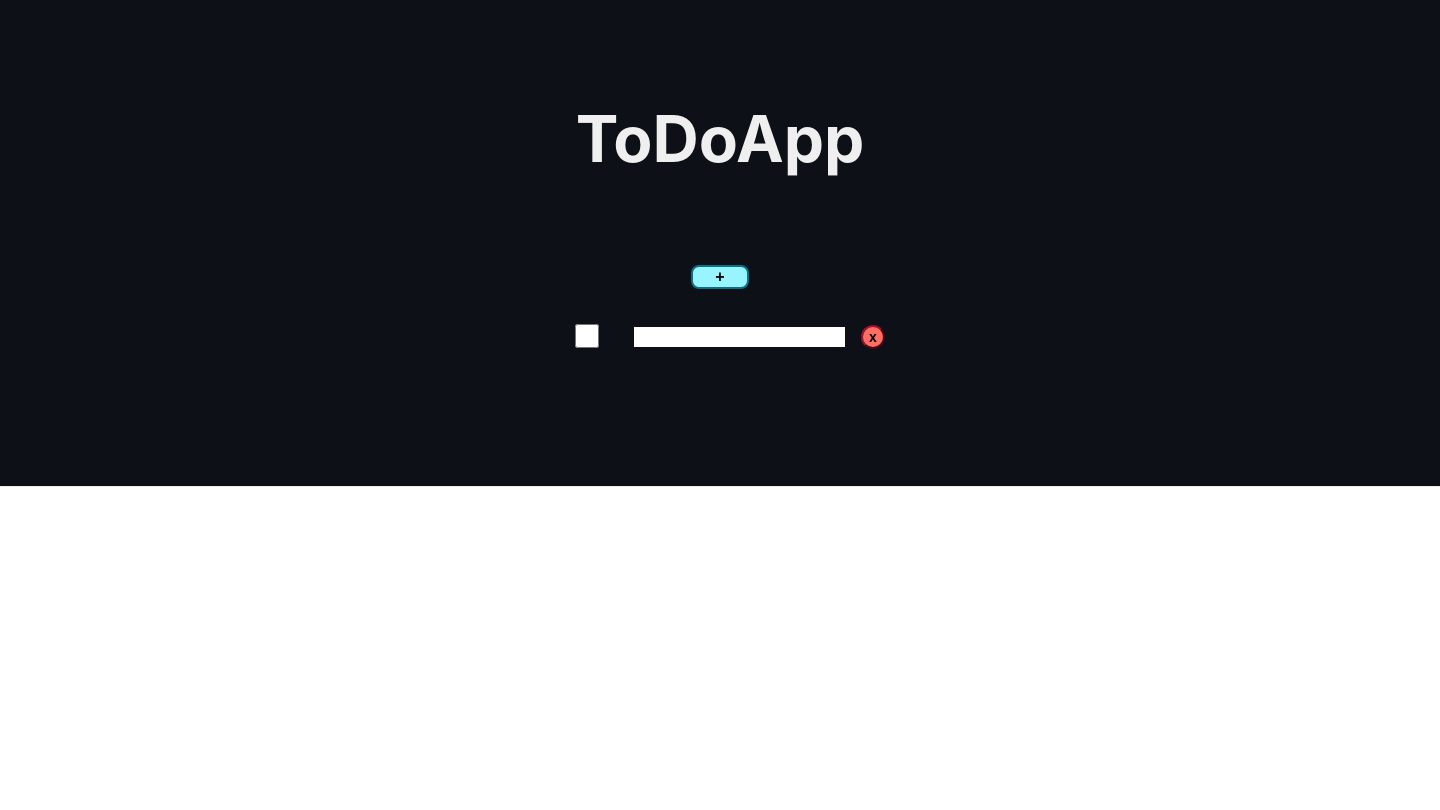
it: Home page › UI allows removing of list item
In the field: coordinates (740, 337) [634, 327, 845, 347], type "one"
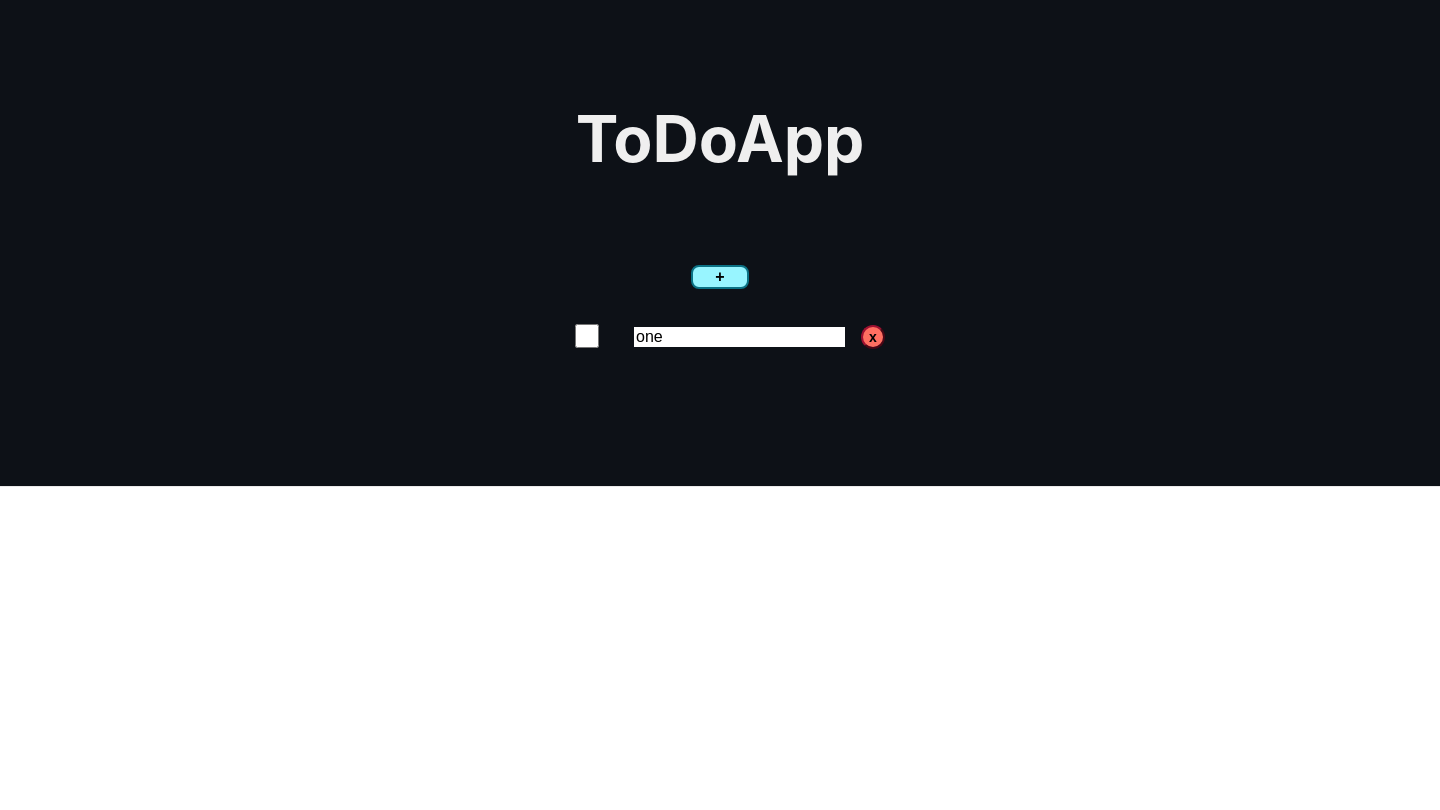
Click the button "+": coordinates (720, 277) [691, 265, 749, 289]
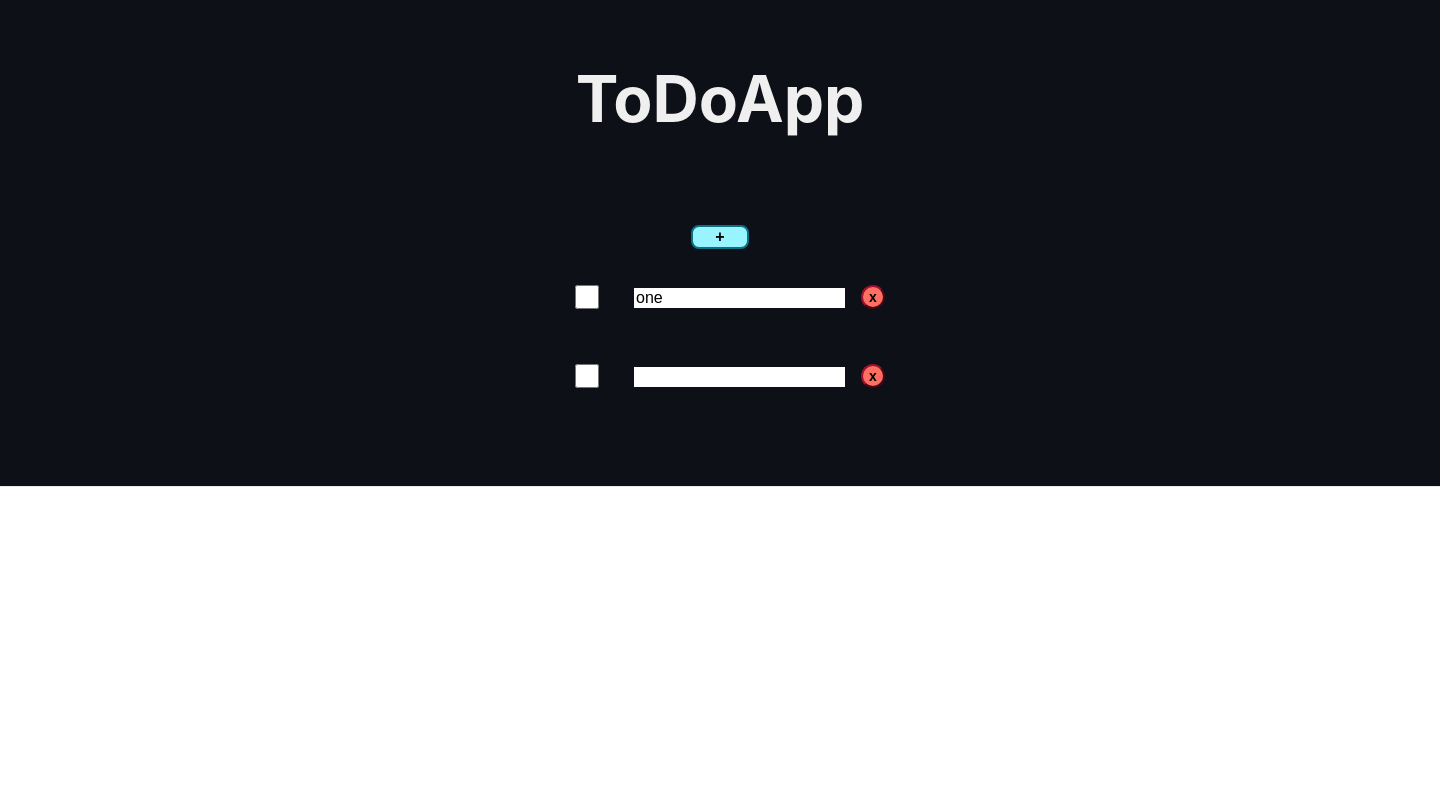
In the 2nd field: coordinates (740, 377) [634, 367, 845, 387], type "two"
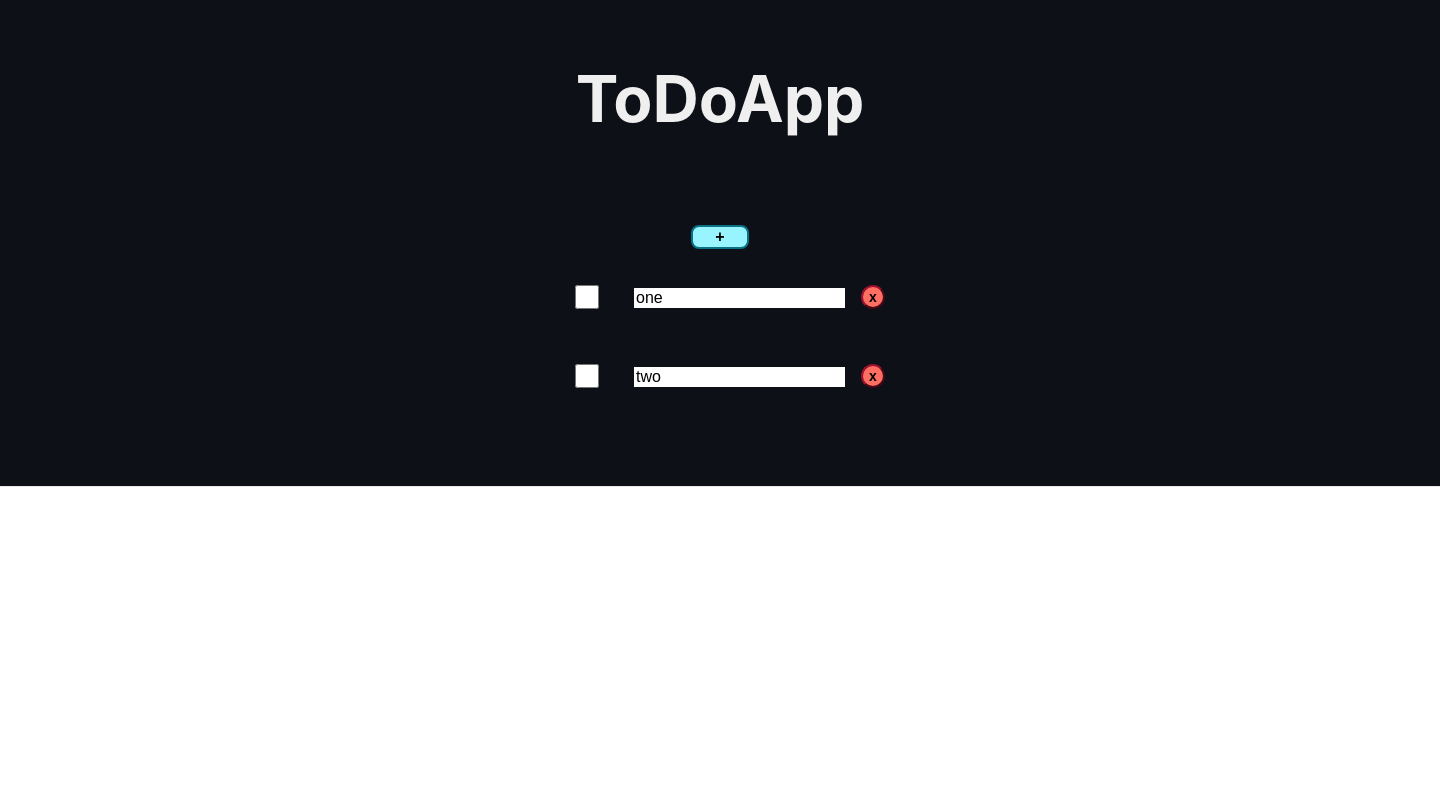
Click the button "+": coordinates (720, 237) [691, 225, 749, 249]
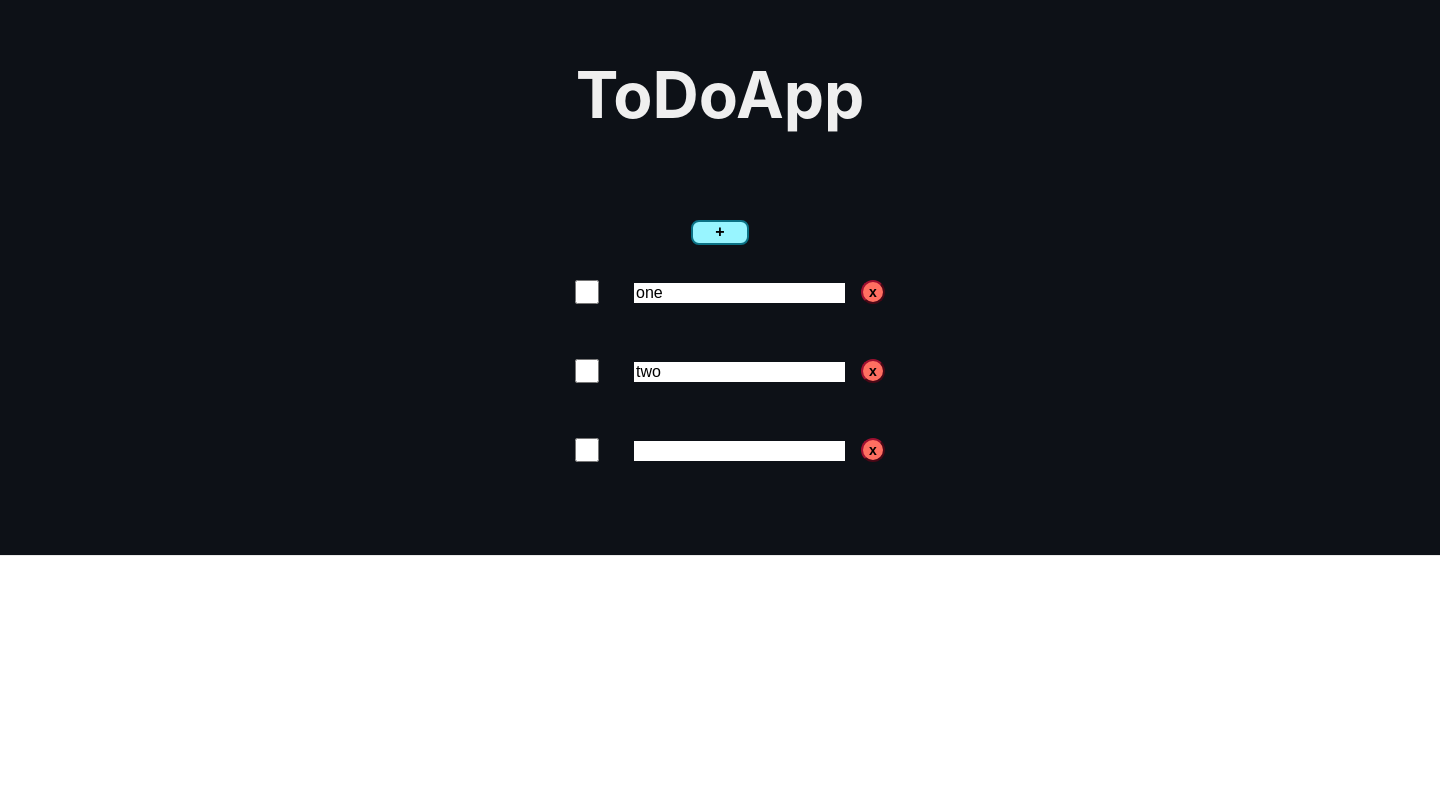
In the 3rd field: coordinates (740, 451) [634, 441, 845, 461], type "three"
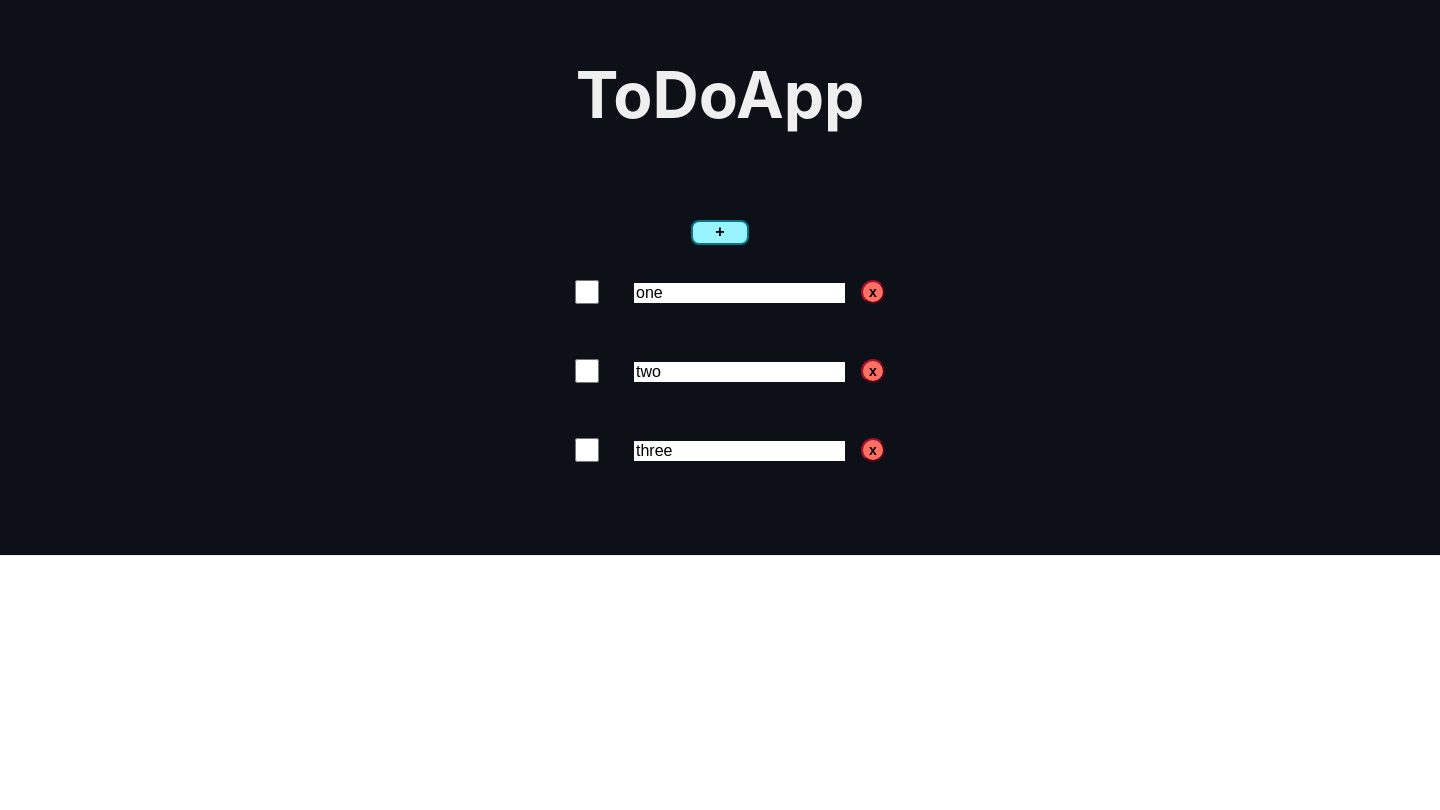
Result: the number of fields is 3 at [634, 283, 845, 303]; [634, 362, 845, 382]; [634, 441, 845, 461]
Click the 2nd button "x": coordinates (873, 371) [861, 359, 885, 383]
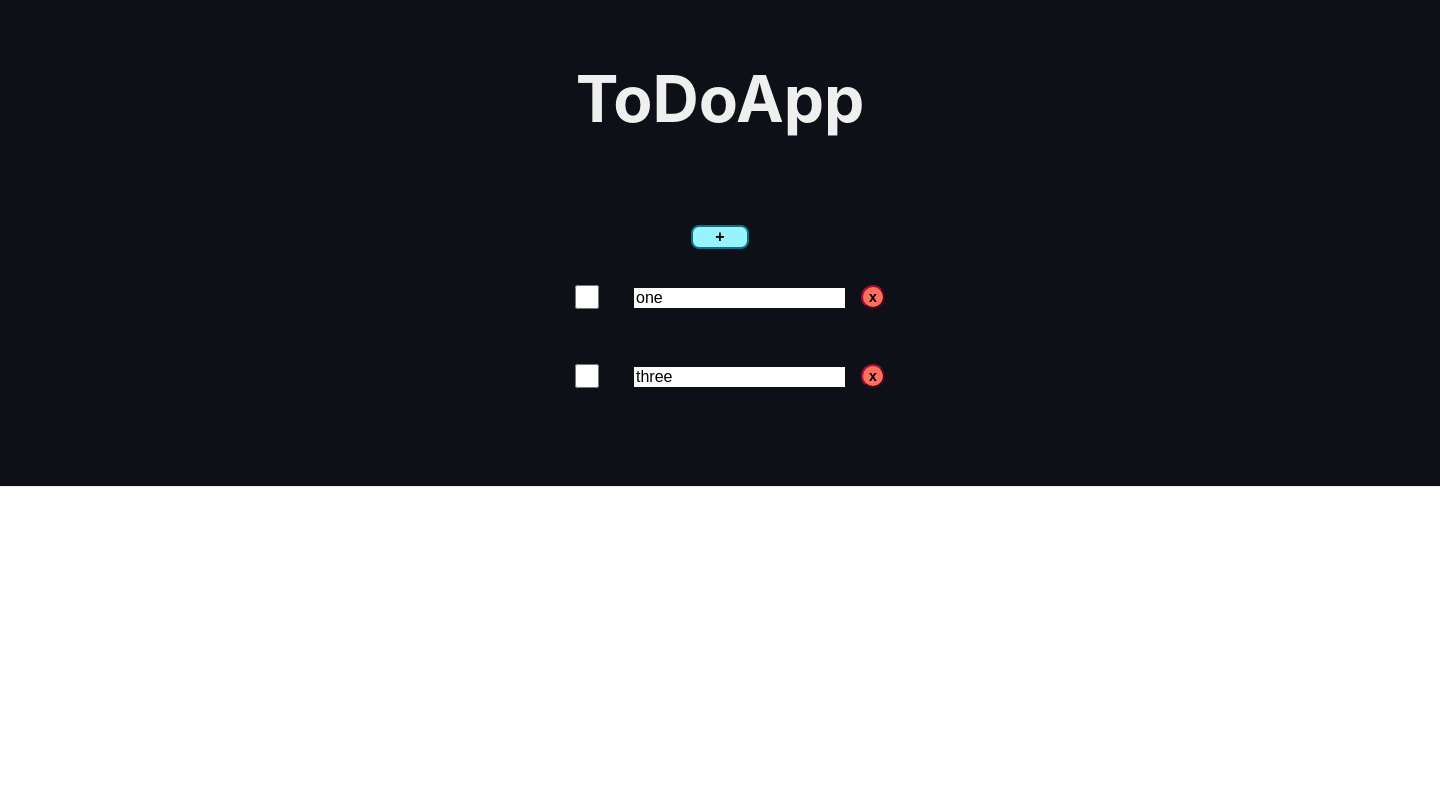
Result: the number of fields is 2 at [634, 288, 845, 308]; [634, 367, 845, 387]
